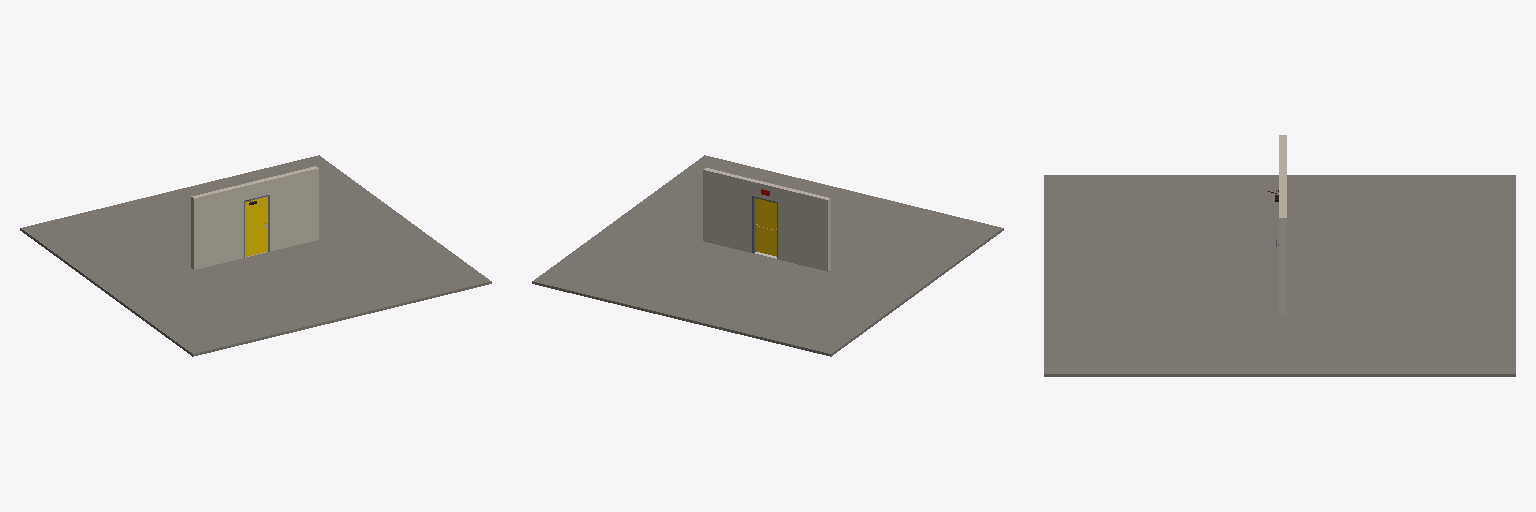
robot.urdf — db0837_swing_single_full:
<?xml version="1.0" ?>
<robot xmlns:doorbench="https://github.com/adamraudonis/DoorBench/schema/urdf-ext" name="db0837_swing_single_full">
  <link name="world_env">
    <visual name="floor_vis">
      <origin xyz="0 0 -0.05" rpy="0 0 0"/>
      <geometry>
        <box size="12 12 0.1"/>
      </geometry>
      <material name="mat_floor"/>
    </visual>
    <collision name="floor_col">
      <origin xyz="0 0 -0.05" rpy="0 0 0"/>
      <geometry>
        <box size="12 12 0.1"/>
      </geometry>
    </collision>
    <visual name="wall_left_vis">
      <origin xyz="-1.50525 0.071 1.3735" rpy="0 0 0"/>
      <geometry>
        <box size="1.9895 0.2 2.747"/>
      </geometry>
      <material name="mat_wall"/>
    </visual>
    <collision name="wall_left_col">
      <origin xyz="-1.50525 0.071 1.3735" rpy="0 0 0"/>
      <geometry>
        <box size="1.9895 0.2 2.747"/>
      </geometry>
    </collision>
    <visual name="wall_right_vis">
      <origin xyz="1.52025 0.071 1.3735" rpy="0 0 0"/>
      <geometry>
        <box size="1.9595 0.2 2.747"/>
      </geometry>
      <material name="mat_wall"/>
    </visual>
    <collision name="wall_right_col">
      <origin xyz="1.52025 0.071 1.3735" rpy="0 0 0"/>
      <geometry>
        <box size="1.9595 0.2 2.747"/>
      </geometry>
    </collision>
    <visual name="wall_header_vis">
      <origin xyz="0.015 0.071 2.487" rpy="0 0 0"/>
      <geometry>
        <box size="1.051 0.2 0.52"/>
      </geometry>
      <material name="mat_wall"/>
    </visual>
    <collision name="wall_header_col">
      <origin xyz="0.015 0.071 2.487" rpy="0 0 0"/>
      <geometry>
        <box size="1.051 0.2 0.52"/>
      </geometry>
    </collision>
    <visual name="hinge_0_jamb_vis">
      <origin xyz="-0.4575 -0.029 0.267" rpy="0 0 0"/>
      <geometry>
        <mesh filename="../../hardware/hinge_jamb_e1d088f8dc.obj"/>
      </geometry>
      <material name="mat_hinge"/>
    </visual>
    <visual name="hinge_1_jamb_vis">
      <origin xyz="-0.4575 -0.029 0.832333" rpy="0 0 0"/>
      <geometry>
        <mesh filename="../../hardware/hinge_jamb_e1d088f8dc.obj"/>
      </geometry>
      <material name="mat_hinge"/>
    </visual>
    <visual name="hinge_2_jamb_vis">
      <origin xyz="-0.4575 -0.029 1.397667" rpy="0 0 0"/>
      <geometry>
        <mesh filename="../../hardware/hinge_jamb_e1d088f8dc.obj"/>
      </geometry>
      <material name="mat_hinge"/>
    </visual>
    <visual name="hinge_3_jamb_vis">
      <origin xyz="-0.4575 -0.029 1.963" rpy="0 0 0"/>
      <geometry>
        <mesh filename="../../hardware/hinge_jamb_e1d088f8dc.obj"/>
      </geometry>
      <material name="mat_hinge"/>
    </visual>
    <visual name="jamb_hinge_vis">
      <origin xyz="-0.4855 0.071 1.0735" rpy="0 0 0"/>
      <geometry>
        <box size="0.05 0.2 2.147"/>
      </geometry>
      <material name="mat_frame"/>
    </visual>
    <collision name="jamb_hinge_col">
      <origin xyz="-0.4855 0.071 1.0735" rpy="0 0 0"/>
      <geometry>
        <box size="0.05 0.2 2.147"/>
      </geometry>
    </collision>
    <visual name="strike_1040_wall_n_vis">
      <origin xyz="0.5005 0.091 1.04" rpy="0 0 0"/>
      <geometry>
        <box size="0.08 0.16 0.04"/>
      </geometry>
      <material name="mat_frame"/>
    </visual>
    <collision name="strike_1040_wall_n_col">
      <origin xyz="0.5005 0.091 1.04" rpy="0 0 0"/>
      <geometry>
        <box size="0.08 0.16 0.04"/>
      </geometry>
    </collision>
    <visual name="strike_1040_wall_p_vis">
      <origin xyz="0.5005 -0.019 1.04" rpy="0 0 0"/>
      <geometry>
        <box size="0.08 0.016 0.04"/>
      </geometry>
      <material name="mat_frame"/>
    </visual>
    <collision name="strike_1040_wall_p_col">
      <origin xyz="0.5005 -0.019 1.04" rpy="0 0 0"/>
      <geometry>
        <box size="0.08 0.016 0.04"/>
      </geometry>
    </collision>
    <visual name="strike_1040_ramp_vis">
      <origin xyz="0.503782 -0.019812 1.04" rpy="0 0 0.588003"/>
      <geometry>
        <box size="0.08 0.036056 0.04"/>
      </geometry>
      <material name="mat_frame"/>
    </visual>
    <collision name="strike_1040_ramp_col">
      <origin xyz="0.503782 -0.019812 1.04" rpy="0 0 0.588003"/>
      <geometry>
        <box size="0.08 0.036056 0.04"/>
      </geometry>
    </collision>
    <visual name="strike_1040_back_vis">
      <origin xyz="0.512 0 1.04" rpy="0 0 0"/>
      <geometry>
        <box size="0.057 0.022 0.04"/>
      </geometry>
      <material name="mat_frame"/>
    </visual>
    <collision name="strike_1040_back_col">
      <origin xyz="0.512 0 1.04" rpy="0 0 0"/>
      <geometry>
        <box size="0.057 0.022 0.04"/>
      </geometry>
    </collision>
    <visual name="jamb_strike_0_vis">
      <origin xyz="0.5005 0.071 0.51" rpy="0 0 0"/>
      <geometry>
        <box size="0.08 0.2 1.02"/>
      </geometry>
      <material name="mat_frame"/>
    </visual>
    <collision name="jamb_strike_0_col">
      <origin xyz="0.5005 0.071 0.51" rpy="0 0 0"/>
      <geometry>
        <box size="0.08 0.2 1.02"/>
      </geometry>
    </collision>
    <visual name="jamb_strike_1_vis">
      <origin xyz="0.5005 0.071 1.6035" rpy="0 0 0"/>
      <geometry>
        <box size="0.08 0.2 1.087"/>
      </geometry>
      <material name="mat_frame"/>
    </visual>
    <collision name="jamb_strike_1_col">
      <origin xyz="0.5005 0.071 1.6035" rpy="0 0 0"/>
      <geometry>
        <box size="0.08 0.2 1.087"/>
      </geometry>
    </collision>
    <visual name="jamb_head_vis">
      <origin xyz="0.015 0.071 2.172" rpy="0 0 0"/>
      <geometry>
        <box size="1.051 0.2 0.05"/>
      </geometry>
      <material name="mat_frame"/>
    </visual>
    <collision name="jamb_head_col">
      <origin xyz="0.015 0.071 2.172" rpy="0 0 0"/>
      <geometry>
        <box size="1.051 0.2 0.05"/>
      </geometry>
    </collision>
    <visual name="head_stud_vis">
      <origin xyz="0.015 0.071 2.212" rpy="0 0 0"/>
      <geometry>
        <box size="1.051 0.2 0.03"/>
      </geometry>
      <material name="mat_wall"/>
    </visual>
    <collision name="head_stud_col">
      <origin xyz="0.015 0.071 2.212" rpy="0 0 0"/>
      <geometry>
        <box size="1.051 0.2 0.03"/>
      </geometry>
    </collision>
    <visual name="stop_hinge_vis">
      <origin xyz="-0.455 0.0385 1.0735" rpy="0 0 0"/>
      <geometry>
        <box size="0.011 0.032 2.147"/>
      </geometry>
      <material name="mat_frame"/>
    </visual>
    <collision name="stop_hinge_col">
      <origin xyz="-0.455 0.0385 1.0735" rpy="0 0 0"/>
      <geometry>
        <box size="0.011 0.032 2.147"/>
      </geometry>
    </collision>
    <visual name="stop_strike_vis">
      <origin xyz="0.455 0.0385 1.0735" rpy="0 0 0"/>
      <geometry>
        <box size="0.011 0.032 2.147"/>
      </geometry>
      <material name="mat_frame"/>
    </visual>
    <collision name="stop_strike_col">
      <origin xyz="0.455 0.0385 1.0735" rpy="0 0 0"/>
      <geometry>
        <box size="0.011 0.032 2.147"/>
      </geometry>
    </collision>
    <visual name="stop_head_vis">
      <origin xyz="0 0.0385 2.1415" rpy="0 0 0"/>
      <geometry>
        <box size="0.921 0.032 0.011"/>
      </geometry>
      <material name="mat_frame"/>
    </visual>
    <collision name="stop_head_col">
      <origin xyz="0 0.0385 2.1415" rpy="0 0 0"/>
      <geometry>
        <box size="0.921 0.032 0.011"/>
      </geometry>
    </collision>
    <visual name="seal_hinge_vis">
      <origin xyz="-0.4575 0.0245 1.0735" rpy="0 0 0"/>
      <geometry>
        <box size="0.008 0.005 2.147"/>
      </geometry>
      <material name="mat_seal"/>
    </visual>
    <visual name="seal_strike_vis">
      <origin xyz="0.4575 0.0245 1.0735" rpy="0 0 0"/>
      <geometry>
        <box size="0.008 0.005 2.147"/>
      </geometry>
      <material name="mat_seal"/>
    </visual>
    <visual name="seal_head_vis">
      <origin xyz="0 0.0245 2.135" rpy="0 0 0"/>
      <geometry>
        <box size="0.881 0.005 0.016"/>
      </geometry>
      <material name="mat_seal"/>
    </visual>
    <visual name="threshold_vis">
      <origin xyz="0 0.071 0.0065" rpy="0 0 0"/>
      <geometry>
        <box size="1.021 0.2 0.013"/>
      </geometry>
      <material name="mat_threshold"/>
    </visual>
    <collision name="threshold_col">
      <origin xyz="0 0.071 0.0065" rpy="0 0 0"/>
      <geometry>
        <box size="1.021 0.2 0.013"/>
      </geometry>
    </collision>
    <visual name="closer_bracket_vis">
      <origin xyz="-0.3605 -0.041 2.177" rpy="0 0 0"/>
      <geometry>
        <box size="0.06 0.024 0.028"/>
      </geometry>
      <material name="mat_closer"/>
    </visual>
    <visual name="exit_sign_vis">
      <origin xyz="0 0.15 2.447" rpy="0 0 0"/>
      <geometry>
        <mesh filename="../../hardware/exit_sign_a6449bfa2c.obj"/>
      </geometry>
      <material name="mat_exit_sign"/>
    </visual>
    <visual name="exit_sign_bracket_vis">
      <origin xyz="0 0.15 2.287" rpy="0 0 0"/>
      <geometry>
        <box size="0.1155 0.0175 0.121"/>
      </geometry>
      <material name="mat_sign_bracket"/>
    </visual>
  </link>
  <link name="leaf">
    <inertial>
      <origin xyz="0.418526 0.013159 1.296561" rpy="0 0 0"/>
      <mass value="56.436269"/>
      <inertia ixx="25.201539513" ixy="-0.113997105" ixz="1.513233456" iyy="28.747755784" iyz="0.690593249" izz="3.696487627"/>
    </inertial>
    <visual name="leaf_slab_vis">
      <origin xyz="0.457 0.029 1.08" rpy="0 0 0"/>
      <geometry>
        <box size="0.914 0.044 2.126"/>
      </geometry>
      <material name="mat_leaf"/>
    </visual>
    <collision name="leaf_slab_col">
      <origin xyz="0.457 0.029 1.08" rpy="0 0 0"/>
      <geometry>
        <box size="0.914 0.044 2.126"/>
      </geometry>
    </collision>
    <visual name="hinge_0_vis">
      <origin xyz="0 0 0.267" rpy="0 0 0"/>
      <geometry>
        <mesh filename="../../hardware/hinge_e22b26c0c1.obj"/>
      </geometry>
      <material name="mat_hinge"/>
    </visual>
    <visual name="hinge_1_vis">
      <origin xyz="0 0 0.832333" rpy="0 0 0"/>
      <geometry>
        <mesh filename="../../hardware/hinge_e22b26c0c1.obj"/>
      </geometry>
      <material name="mat_hinge"/>
    </visual>
    <visual name="hinge_2_vis">
      <origin xyz="0 0 1.397667" rpy="0 0 0"/>
      <geometry>
        <mesh filename="../../hardware/hinge_e22b26c0c1.obj"/>
      </geometry>
      <material name="mat_hinge"/>
    </visual>
    <visual name="hinge_3_vis">
      <origin xyz="0 0 1.963" rpy="0 0 0"/>
      <geometry>
        <mesh filename="../../hardware/hinge_e22b26c0c1.obj"/>
      </geometry>
      <material name="mat_hinge"/>
    </visual>
    <visual name="leaf_exit_device_case_vis">
      <origin xyz="0.869 0.084 1.04" rpy="0 0 0"/>
      <geometry>
        <box size="0.044 0.066 0.09"/>
      </geometry>
      <material name="mat_op_brass"/>
    </visual>
    <collision name="leaf_exit_device_case_col">
      <origin xyz="0.869 0.084 1.04" rpy="0 0 0"/>
      <geometry>
        <box size="0.044 0.066 0.09"/>
      </geometry>
    </collision>
    <visual name="leaf_exit_device_end_case_vis">
      <origin xyz="0.0735 0.081 1.04" rpy="0 0 0"/>
      <geometry>
        <box size="0.044 0.06 0.07"/>
      </geometry>
      <material name="mat_op_brass"/>
    </visual>
    <collision name="leaf_exit_device_end_case_col">
      <origin xyz="0.0735 0.081 1.04" rpy="0 0 0"/>
      <geometry>
        <box size="0.044 0.06 0.07"/>
      </geometry>
    </collision>
    <visual name="leaf_far_pull_n_vis">
      <origin xyz="0.824 0.007 1.04" rpy="1.570796 0 0"/>
      <geometry>
        <mesh filename="../../hardware/pull_1e5d69a91a.obj"/>
      </geometry>
      <material name="mat_op_stainless"/>
    </visual>
    <collision name="leaf_far_pull_col_n_col">
      <origin xyz="0.824 -0.053 1.04" rpy="0 0 0"/>
      <geometry>
        <cylinder radius="0.0095" length="0.16"/>
      </geometry>
    </collision>
    <visual name="closer_body_vis">
      <origin xyz="0.297 0.007 2.046" rpy="1.570796 0 0"/>
      <geometry>
        <mesh filename="../../hardware/closer_body_fdc4667657.obj"/>
      </geometry>
      <material name="mat_closer"/>
    </visual>
    <collision name="closer_body_col_col">
      <origin xyz="0.297 -0.043 2.046" rpy="0 0 0"/>
      <geometry>
        <box size="0.29 0.1 0.07"/>
      </geometry>
    </collision>
    <visual name="closer_pinion_shaft_vis">
      <origin xyz="0.297 -0.043 2.1115" rpy="0 0 0"/>
      <geometry>
        <cylinder radius="0.008" length="0.131"/>
      </geometry>
      <material name="mat_closer"/>
    </visual>
  </link>
  <link name="leaf_exit_device">
    <inertial>
      <origin xyz="0 0.05794 0" rpy="0 0 0"/>
      <mass value="2.212541"/>
      <inertia ixx="0.000361182" ixy="0" ixz="0" iyy="0.103984907" iyz="0" izz="0.10418157"/>
    </inertial>
    <visual name="leaf_exit_device_mesh_vis">
      <origin xyz="0 0 0" rpy="-1.570796 0 0"/>
      <geometry>
        <mesh filename="../../hardware/crossbar_a94ab98191.obj"/>
      </geometry>
      <material name="mat_op_brass"/>
    </visual>
    <collision name="leaf_exit_device_col_col">
      <origin xyz="0 0.06 0" rpy="0 1.570796 0"/>
      <geometry>
        <cylinder radius="0.0125" length="0.6855"/>
      </geometry>
    </collision>
  </link>
  <link name="leaf_latch_bolt">
    <inertial>
      <origin xyz="-0.0055 0 0" rpy="0 0 0"/>
      <mass value="0.102826"/>
      <inertia ixx="0.000004365" ixy="0" ixz="0" iyy="0.000018287" iyz="0" izz="0.000018287"/>
    </inertial>
    <visual name="leaf_latch_bolt_capsule_vis">
      <origin xyz="-0.0055 0 0" rpy="0 1.570796 0"/>
      <geometry>
        <cylinder radius="0.0095" length="0.03"/>
      </geometry>
      <material name="mat_bolt"/>
    </visual>
    <collision name="leaf_latch_bolt_capsule_col">
      <origin xyz="-0.0055 0 0" rpy="0 1.570796 0"/>
      <geometry>
        <cylinder radius="0.0095" length="0.03"/>
      </geometry>
    </collision>
  </link>
  <link name="closer_arm_main">
    <inertial>
      <origin xyz="0.14 0 0" rpy="0 0 0"/>
      <mass value="0.12096"/>
      <inertia ixx="0.000003588" ixy="0" ixz="0" iyy="0.00079128" iyz="0" izz="0.000792852"/>
    </inertial>
    <visual name="closer_arm_main_geom_vis">
      <origin xyz="0.14 0 0" rpy="0 0 0"/>
      <geometry>
        <box size="0.28 0.016 0.01"/>
      </geometry>
      <material name="mat_closer"/>
    </visual>
  </link>
  <link name="closer_arm_fore">
    <inertial>
      <origin xyz="0.128088 0 0" rpy="0 0 0"/>
      <mass value="0.076531"/>
      <inertia ixx="0.000001771" ixy="0" ixz="0" iyy="0.000437665" iyz="0" izz="0.000438201"/>
    </inertial>
    <visual name="closer_arm_fore_geom_vis">
      <origin xyz="0.1125 0 0" rpy="0 0 0"/>
      <geometry>
        <box size="0.225 0.014 0.008"/>
      </geometry>
      <material name="mat_closer"/>
    </visual>
    <visual name="closer_fore_neck_vis">
      <origin xyz="0.2425 0 0" rpy="0 0 0"/>
      <geometry>
        <box size="0.035 0.006 0.006"/>
      </geometry>
      <material name="mat_closer"/>
    </visual>
    <visual name="closer_fore_pivot_vis">
      <origin xyz="0.26 0 0" rpy="0 0 0"/>
      <geometry>
        <cylinder radius="0.005" length="0.024"/>
      </geometry>
      <material name="mat_closer"/>
    </visual>
  </link>
  <joint name="leaf_hinge" type="revolute">
    <origin xyz="-0.4575 -0.029 0" rpy="0 0 0"/>
    <parent link="world_env"/>
    <child link="leaf"/>
    <axis xyz="0 0 -1"/>
    <limit lower="0" upper="1.745329" effort="2000" velocity="10"/>
    <dynamics damping="12.268966" friction="3.266595"/>
    <doorbench:spring stiffness="12.254931" springref="-1.689116" note="tau = -stiffness*(q - springref); not native URDF"/>
    <doorbench:closer damping_closing="63" damping_opening="12" backcheck_angle="1.22" backcheck_damping="60"/>
  </joint>
  <joint name="leaf_exit_device_hinge" type="revolute">
    <origin xyz="0.47125 0.051 1.04" rpy="0 0 0"/>
    <parent link="leaf"/>
    <child link="leaf_exit_device"/>
    <axis xyz="1 0 0"/>
    <limit lower="0" upper="0.35" effort="2000" velocity="10"/>
    <dynamics damping="0.924048" friction="0.14"/>
    <doorbench:spring stiffness="12" springref="-0.333333" note="tau = -stiffness*(q - springref); not native URDF"/>
  </joint>
  <joint name="leaf_latch_bolt_slide" type="prismatic">
    <origin xyz="0.914 0.029 1.04" rpy="0 0 0"/>
    <parent link="leaf"/>
    <child link="leaf_latch_bolt"/>
    <axis xyz="-1 0 0"/>
    <limit lower="0" upper="0.019" effort="5000" velocity="10"/>
    <dynamics damping="2" friction="0.3"/>
    <doorbench:spring stiffness="800" springref="-0.01" note="tau = -stiffness*(q - springref); not native URDF"/>
    <mimic joint="leaf_exit_device_hinge" multiplier="0.059375" offset="0"/>
    <doorbench:coupling one_sided="true" note="MJCF uses a one-sided tendon (bolt may retract further, e.g. riding over the strike lip); mimic is bilateral"/>
  </joint>
  <joint name="closer_pinion" type="continuous">
    <origin xyz="0.297 -0.043 2.177" rpy="0 0 -2.198853"/>
    <parent link="leaf"/>
    <child link="closer_arm_main"/>
    <axis xyz="0 0 1"/>
    <dynamics damping="0.01" friction="0"/>
  </joint>
  <joint name="closer_elbow" type="continuous">
    <origin xyz="0.28 0 0" rpy="0 0 -2.376649"/>
    <parent link="closer_arm_main"/>
    <child link="closer_arm_fore"/>
    <axis xyz="0 0 1"/>
    <dynamics damping="0.01" friction="0"/>
  </joint>
  <material name="mat_bolt">
    <color rgba="0.75 0.76 0.77 1"/>
  </material>
  <material name="mat_closer">
    <color rgba="0.22 0.17 0.13 1"/>
  </material>
  <material name="mat_exit_sign">
    <color rgba="0.85 0.1 0.1 1"/>
  </material>
  <material name="mat_floor">
    <color rgba="0.55 0.53 0.5 1"/>
  </material>
  <material name="mat_frame">
    <color rgba="0.45 0.48 0.52 1"/>
  </material>
  <material name="mat_hinge">
    <color rgba="0.65 0.66 0.68 1"/>
  </material>
  <material name="mat_leaf">
    <color rgba="0.95 0.8 0.05 1"/>
  </material>
  <material name="mat_op_brass">
    <color rgba="0.85 0.66 0.3 1"/>
  </material>
  <material name="mat_op_stainless">
    <color rgba="0.75 0.76 0.77 1"/>
  </material>
  <material name="mat_seal">
    <color rgba="0.1 0.1 0.1 1"/>
  </material>
  <material name="mat_sign_bracket">
    <color rgba="0.8 0.81 0.83 1"/>
  </material>
  <material name="mat_threshold">
    <color rgba="0.8 0.81 0.83 1"/>
  </material>
  <material name="mat_wall">
    <color rgba="0.78 0.76 0.7 1"/>
  </material>
  <doorbench:loop_closure body1="closer_arm_fore" body2="world" anchor="0.26 0 0" label="Closer forearm pinned to frame shoe"/>
</robot>

--- Render facts (derived) ---
3 views of the same robot in one strip: view 1: azimuth 30°, elevation 25°; view 2: azimuth 150°, elevation 25°; view 3: azimuth 270°, elevation 25° (orthographic).
Robot: db0837_swing_single_full — 6 links, 5 joints (2 revolute, 2 continuous, 1 prismatic); root link world_env; default pose: every joint at zero.
Visible links, largest first — view 1: world_env, leaf; view 2: world_env, leaf; view 3: world_env.
Boxes of the visible links, x1,y1,x2,y2 form: world_env: (20, 155, 491, 356); leaf: (245, 196, 267, 256); world_env: (532, 155, 1003, 356); leaf: (756, 198, 776, 256); world_env: (1044, 135, 1515, 376).
Size in the robot's own frame: 12 by 12 by 2.85 metres.
12 mesh visuals loaded from 6 distinct referenced files (6 OBJ).
